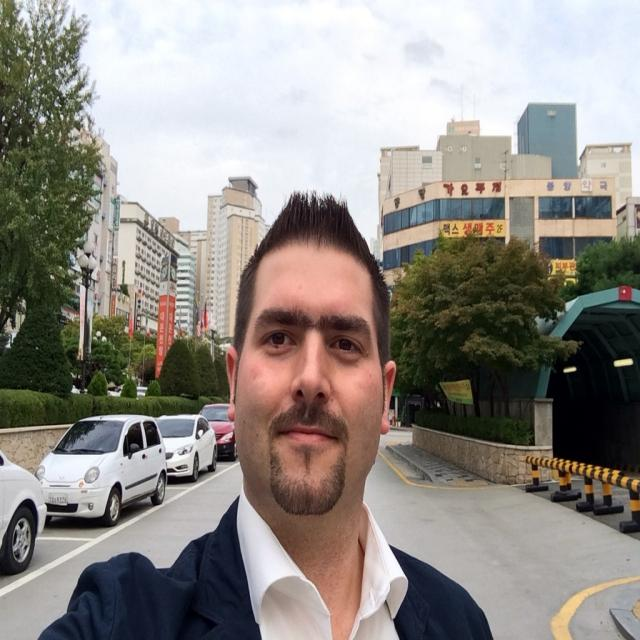car: (26, 412, 173, 537)
